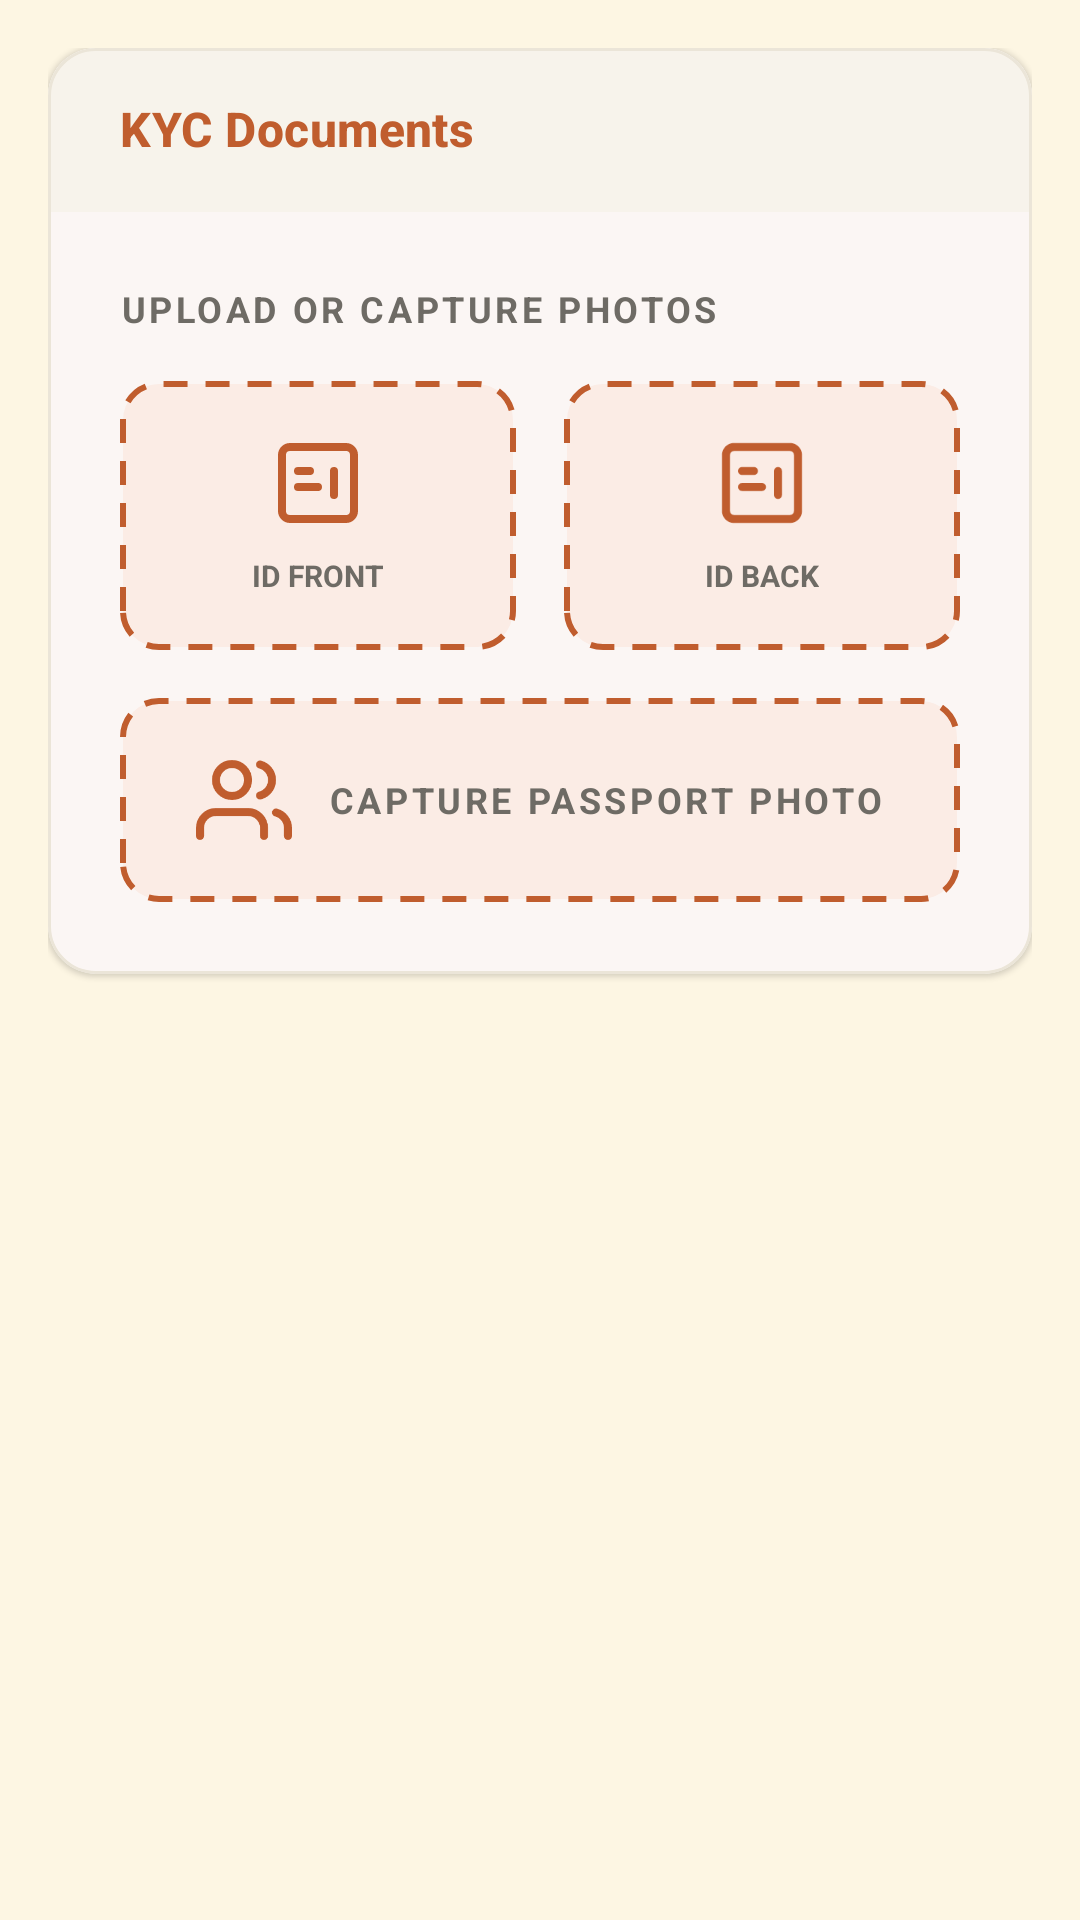

Icons on this 1080 x 1920 Android screen, each with its box as (x1, y1, x2, y2):
badge id: (278, 443, 358, 523), (722, 443, 802, 523)
users: (196, 760, 292, 840)
